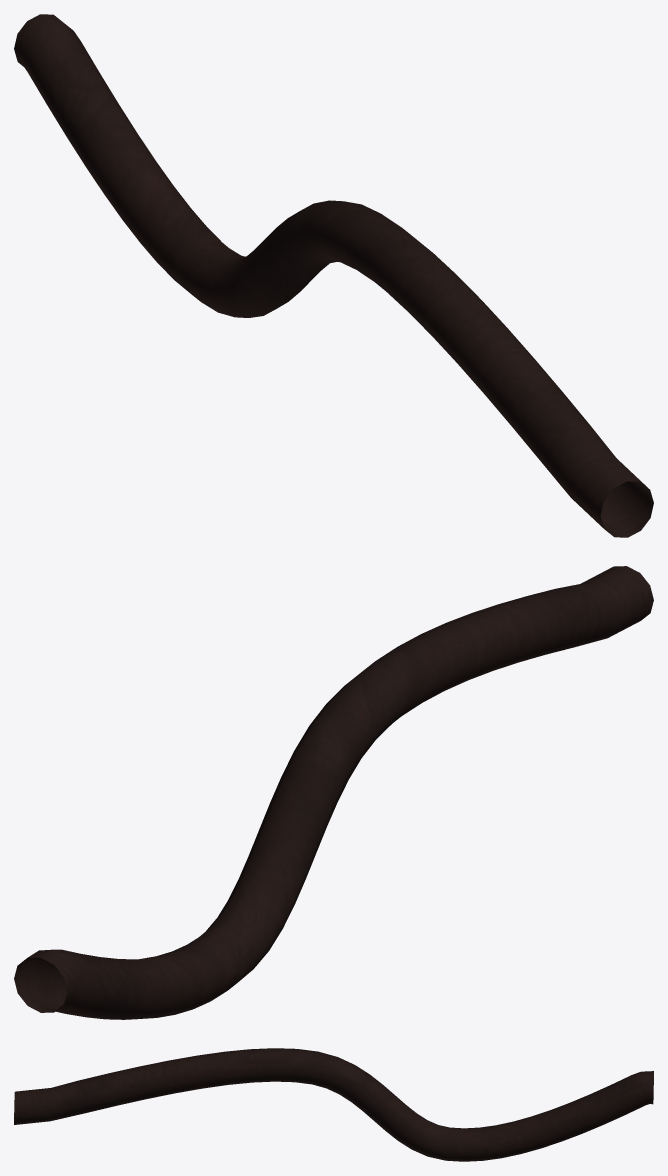
The model's file is Cable01.fbx.
3 views of the same model, one above another, from view 1: azimuth 30°, elevation 25°; view 2: azimuth 150°, elevation 25°; view 3: azimuth 270°, elevation 25° (orthographic). The views are drawn at different scales.
Visible parts, largest first — view 1: Cab01; view 2: Cab01; view 3: Cab01.
Boxes of the visible parts, x1,y1,x2,y2 form: Cab01: (14,14,653,537); Cab01: (14,566,653,1019); Cab01: (14,1048,653,1161).
Size of the model in its own units: 10.4 by 37.79 by 198.
